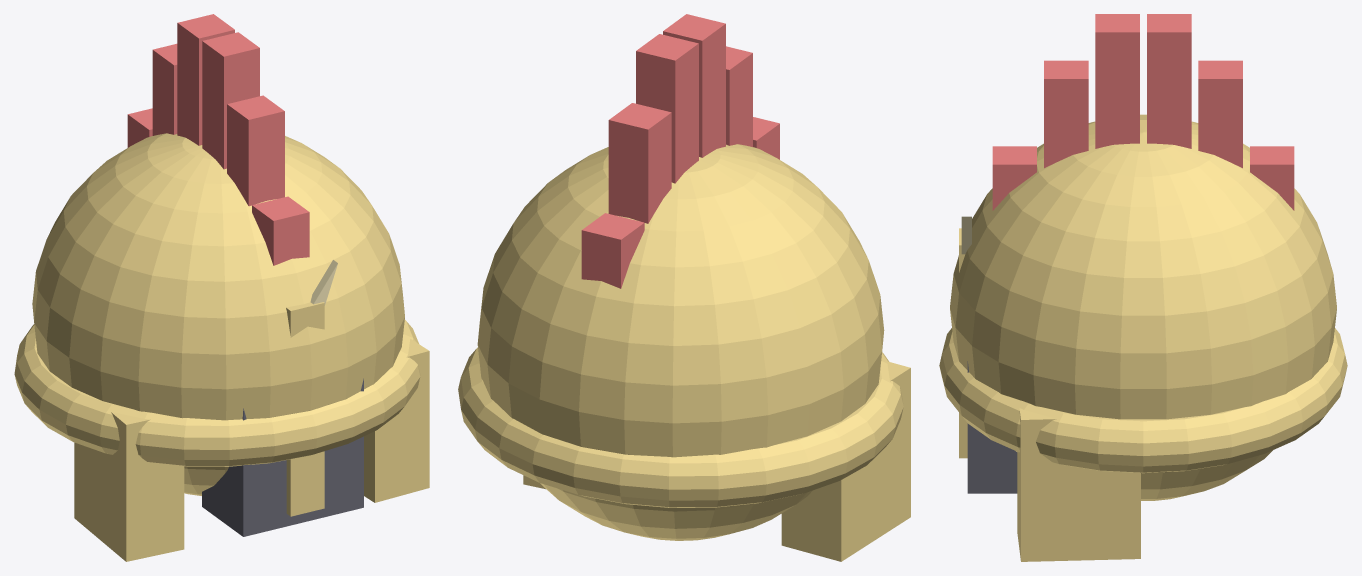
Rendered from helmet.glb.
3 views of the same model, side by side, from view 1: azimuth 30°, elevation 25°; view 2: azimuth 150°, elevation 25°; view 3: azimuth 270°, elevation 25° (orthographic). The views are drawn at different scales.
Parts seen in each view (by area): view 1: item_helmet; view 2: item_helmet; view 3: item_helmet.
Part boxes in pixels (box(x1,y1,x2,y2)): item_helmet: box(14, 14, 429, 561); item_helmet: box(458, 14, 910, 561); item_helmet: box(939, 14, 1347, 561).
Size of the model in its own units: 0.5236 by 0.6229 by 0.4987.
